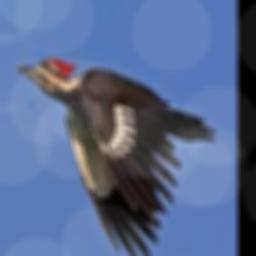Woodpecker: (16, 57, 217, 256)
